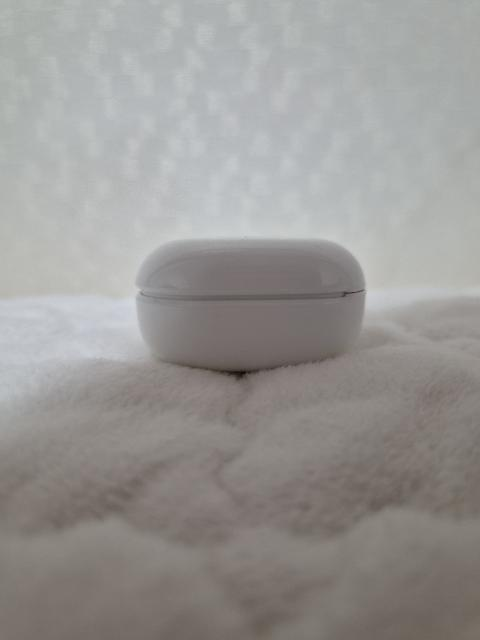earphone_case: (135, 237, 366, 372)
